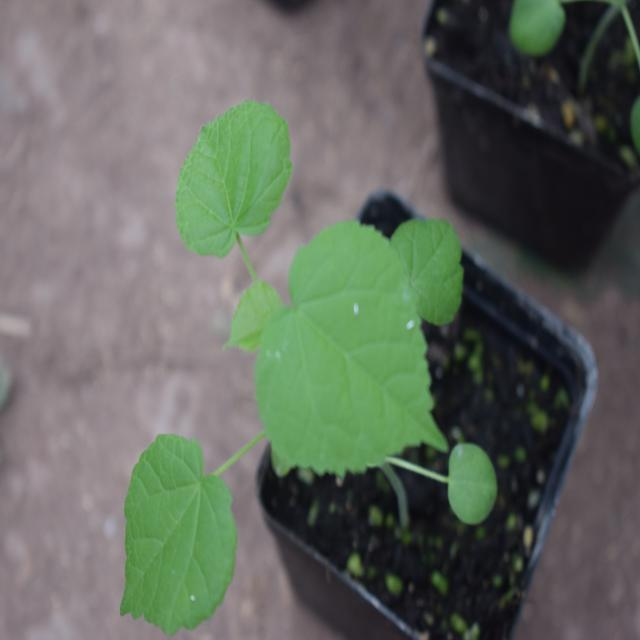abutilon theophrasti: (102, 89, 492, 606)
